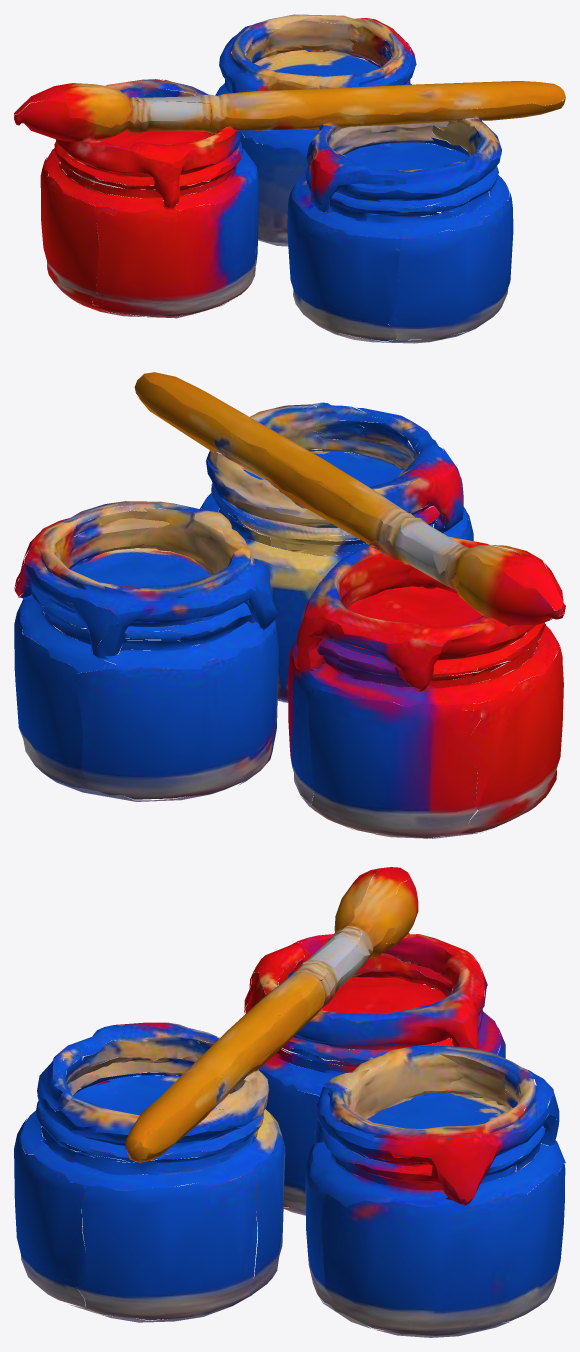
The model's file is paints.glb.
3 views of the same model, one above another, from view 1: azimuth 30°, elevation 25°; view 2: azimuth 150°, elevation 25°; view 3: azimuth 270°, elevation 25° (orthographic). The views are drawn at different scales.
Parts seen in each view (by area): view 1: textured_mesh.obj; view 2: textured_mesh.obj; view 3: textured_mesh.obj.
Part boxes in pixels (x1=…): textured_mesh.obj: x1=14, y1=14, x2=565, y2=343; textured_mesh.obj: x1=14, y1=372, x2=565, y2=838; textured_mesh.obj: x1=14, y1=867, x2=565, y2=1337.
Size of the model in its own units: 2.19 by 1 by 1.93.
Materials: 1 (1 with a texture image).
